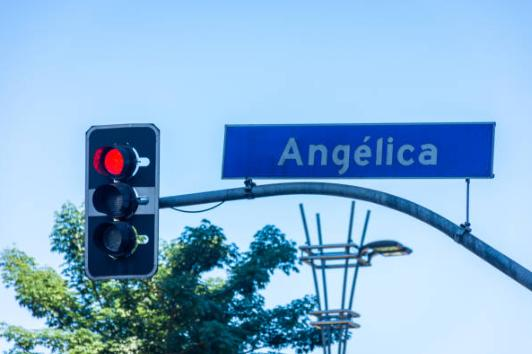red_light: (84, 122, 161, 278)
